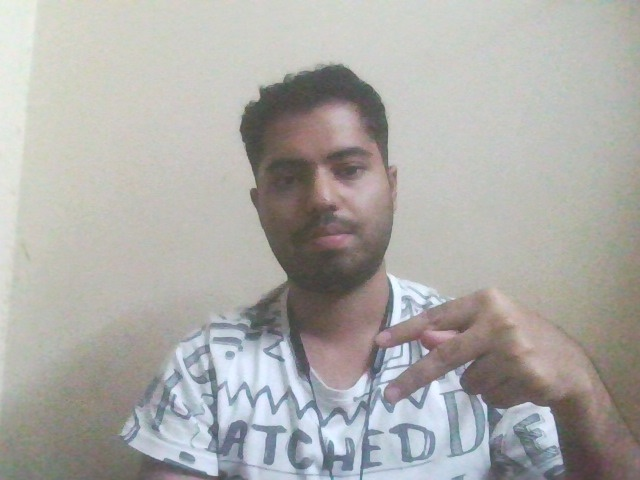S: (354, 276, 633, 442)
